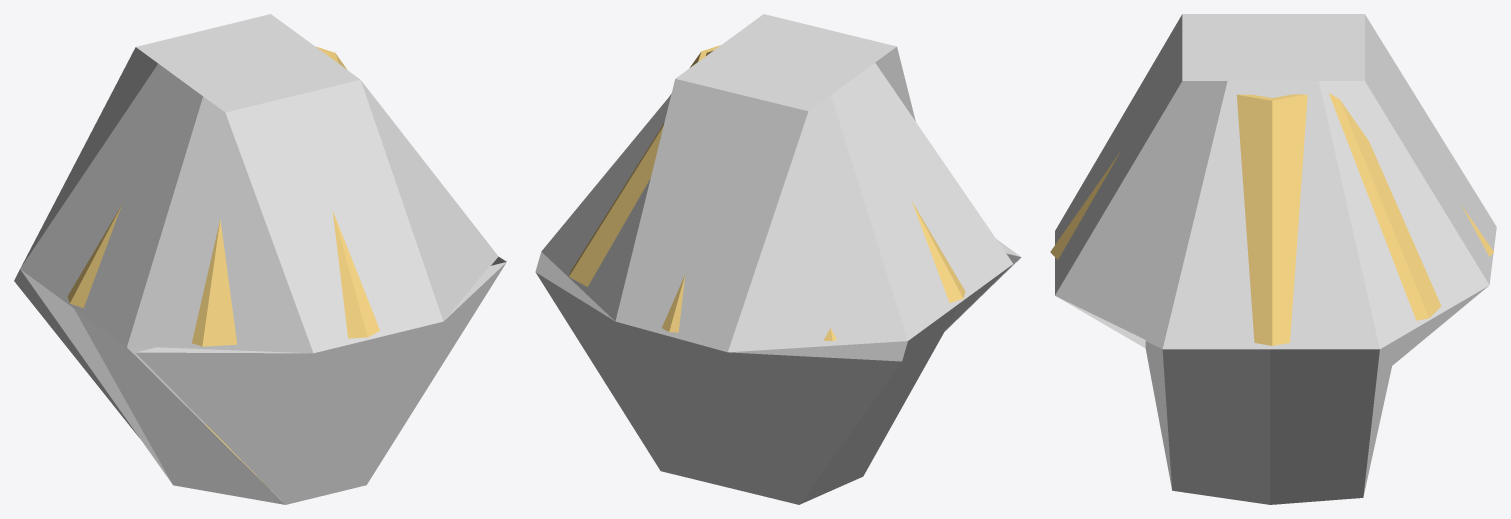
The model's file is lamp_collision.fbx.
3 renders of one model, left to right at view 1: azimuth 30°, elevation 25°; view 2: azimuth 150°, elevation 25°; view 3: azimuth 270°, elevation 25°, orthographic. The views are drawn at different scales.
Visible parts, largest first — view 1: Cube, pCylinder2_Corda_0; view 2: Cube, pCylinder2_Corda_0; view 3: Cube, pCylinder2_Corda_0.
Boxes of the visible parts, x1,y1,x2,y2 form: Cube: [14, 14, 506, 504]; pCylinder2_Corda_0: [67, 46, 379, 488]; Cube: [535, 14, 1021, 504]; pCylinder2_Corda_0: [569, 45, 965, 341]; Cube: [1055, 14, 1496, 504]; pCylinder2_Corda_0: [1050, 93, 1493, 345].
Bounding box in the file's own units: 56.53 × 57.45 × 56.85.
